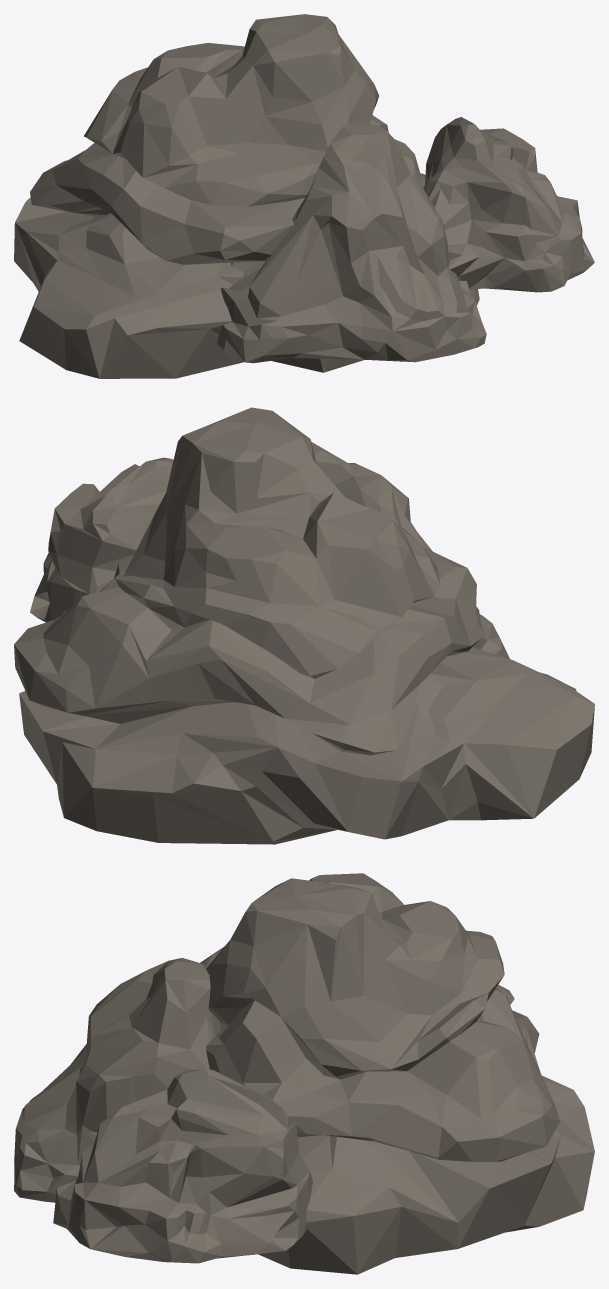
Rendered from RockPile3.fbx.
3 renders of one model, top to bottom at view 1: azimuth 30°, elevation 25°; view 2: azimuth 150°, elevation 25°; view 3: azimuth 270°, elevation 25°, orthographic. The views are drawn at different scales.
Visible parts, largest first — view 1: SM_Env_Rock_Large_06, SM_Env_Rock_Huge_01, SM_Env_Rock_Huge_02; view 2: SM_Env_Rock_Large_06, SM_Env_Rock_Huge_02, SM_Env_Rock_Huge_01; view 3: SM_Env_Rock_Large_06, SM_Env_Rock_Huge_02, SM_Env_Rock_Huge_01.
Part boxes in pixels (x1,y1,x2,y2): SM_Env_Rock_Large_06: (14, 14, 425, 378); SM_Env_Rock_Huge_01: (217, 122, 486, 363); SM_Env_Rock_Huge_02: (422, 117, 594, 292); SM_Env_Rock_Large_06: (14, 407, 594, 844); SM_Env_Rock_Huge_02: (30, 457, 173, 622); SM_Env_Rock_Huge_01: (311, 442, 509, 658); SM_Env_Rock_Large_06: (200, 873, 594, 1274); SM_Env_Rock_Huge_02: (53, 1069, 312, 1263); SM_Env_Rock_Huge_01: (14, 958, 220, 1202).
Bounding box in the file's own units: 11255 × 6012 × 10106.
1 material, 1 textured.
